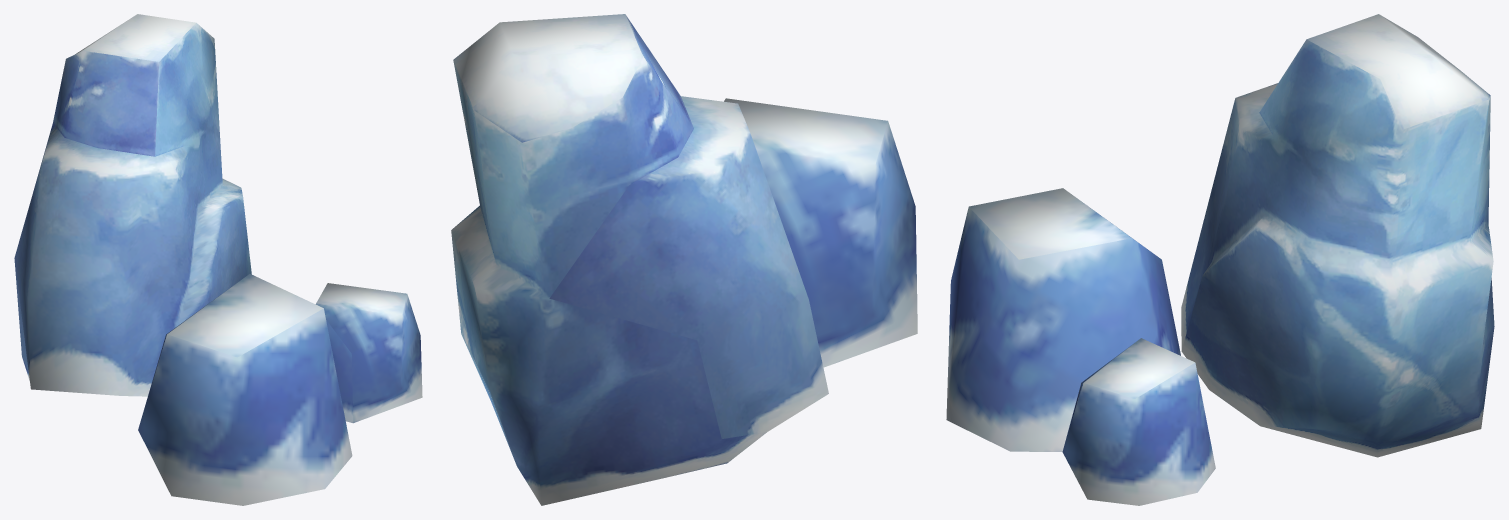
Rendered from SM_stoneB_16.fbx.
3 views of the same model, side by side, from view 1: azimuth 30°, elevation 25°; view 2: azimuth 150°, elevation 25°; view 3: azimuth 270°, elevation 25° (orthographic). The views are drawn at different scales.
Parts seen in each view (by area): view 1: SM_stoneB_16; view 2: SM_stoneB_16; view 3: SM_stoneB_16.
Part boxes in pixels (bbox=[...]): SM_stoneB_16: bbox=[14, 14, 422, 505]; SM_stoneB_16: bbox=[451, 14, 917, 505]; SM_stoneB_16: bbox=[946, 14, 1494, 505].
Size of the model in its own units: 1.76 by 1.7 by 2.14.
